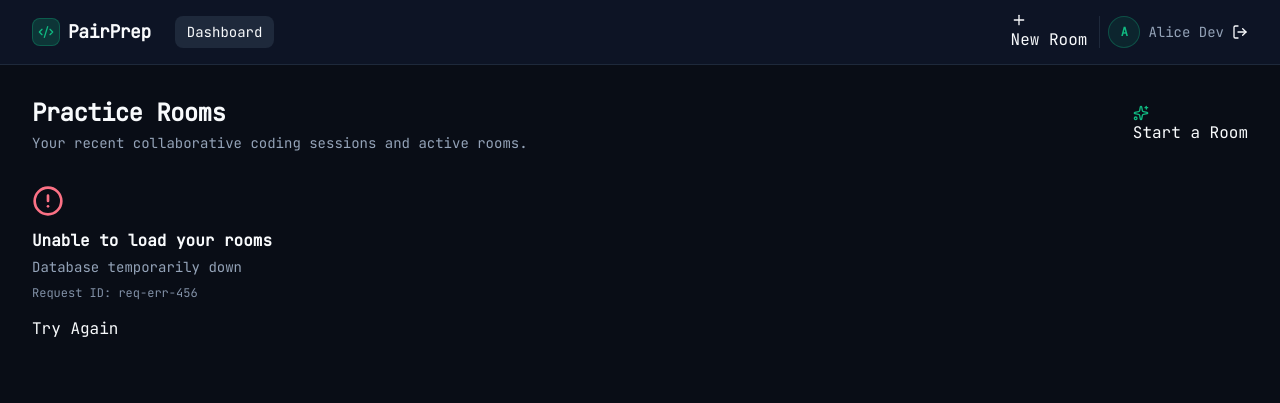
Scenario: DashboardPage › renders ErrorState with retry button when fetch fails, and retries on click
Expected: the heading "Unable to load your rooms" is shown, [32,230,272,251]
Expected: the text "Database temporarily down" is shown, [32,258,242,276]
Step 1. Click the button "Try Again" → coordinates (75, 329), box [32,317,118,341]
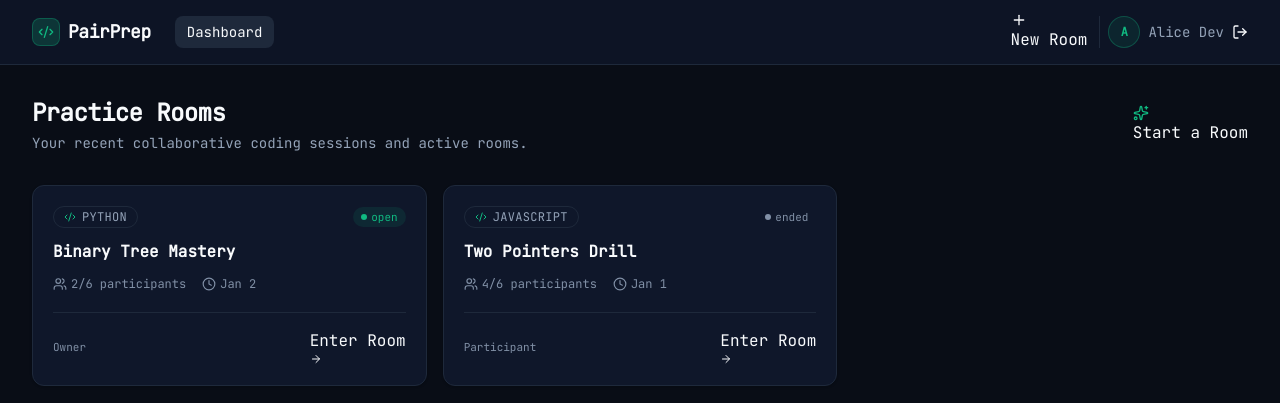
Result: the heading "Binary Tree Mastery" is shown at [53,241,235,262]
